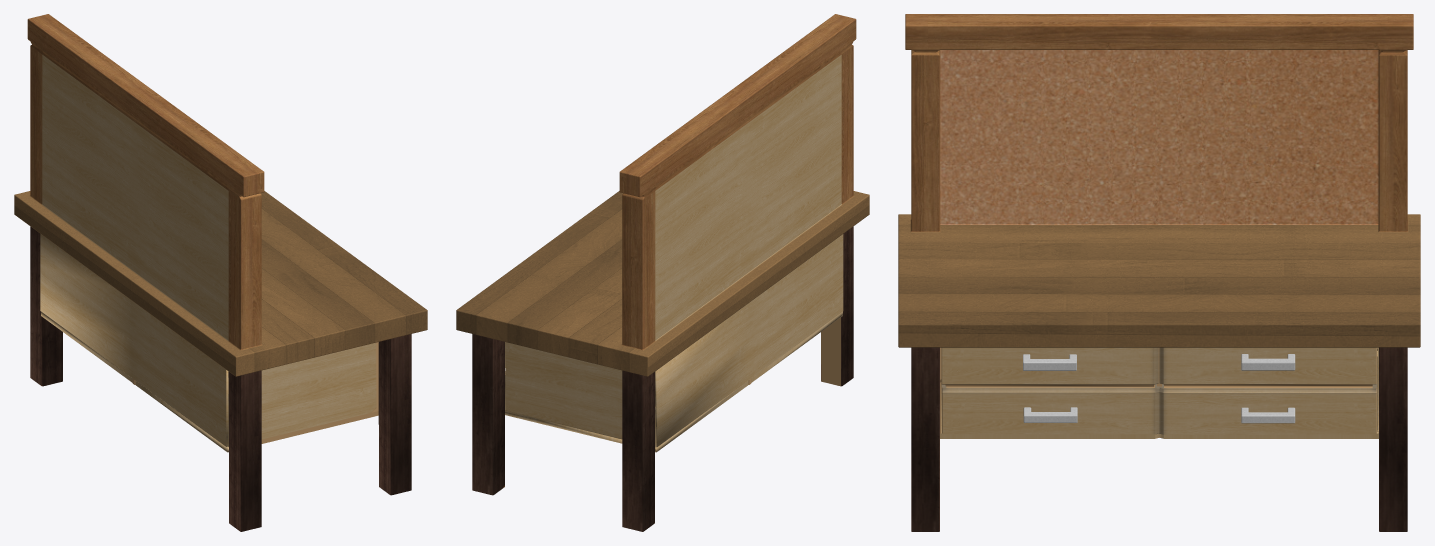
Rendered from WorkbenchDrawers.fbx.
3 renders of one model, left to right at view 1: azimuth 30°, elevation 25°; view 2: azimuth 150°, elevation 25°; view 3: azimuth 270°, elevation 25°, orthographic. The views are drawn at different scales.
Visible parts, largest first — view 1: Workbench, Workbench.001, Workbench.002, Side; view 2: Workbench, Workbench.001, Workbench.002, Side2; view 3: Workbench, Workbench.001, Drawer1.004, Drawer2.002, Drawer4.002, Drawer3.009, Shelf1, Shelf2, Handel3, Handel4, Handel1, Handel2 (+2 smaller).
Part boxes in pixels (box(x1,y1,x2,y2)): Workbench: box(14, 14, 427, 531); Workbench.001: box(15, 191, 427, 376); Workbench.002: box(40, 234, 228, 452); Side: box(261, 342, 378, 439); Workbench: box(456, 14, 864, 531); Workbench.001: box(456, 191, 869, 376); Workbench.002: box(655, 234, 843, 452); Side2: box(505, 342, 622, 438); Workbench: box(898, 14, 1420, 531); Workbench.001: box(898, 214, 1420, 347); Drawer1.004: box(942, 387, 1159, 434); Drawer2.002: box(1159, 387, 1376, 434); Drawer4.002: box(1159, 347, 1376, 384); Drawer3.009: box(941, 347, 1158, 384); Shelf1: box(940, 384, 1155, 438); Shelf2: box(1163, 431, 1378, 438); Handel3: box(1241, 354, 1295, 370); Handel4: box(1241, 407, 1295, 423); Handel1: box(1023, 354, 1076, 370); Handel2: box(1023, 407, 1077, 422).
Bounding box in the file's own units: 100 × 178 × 200.
